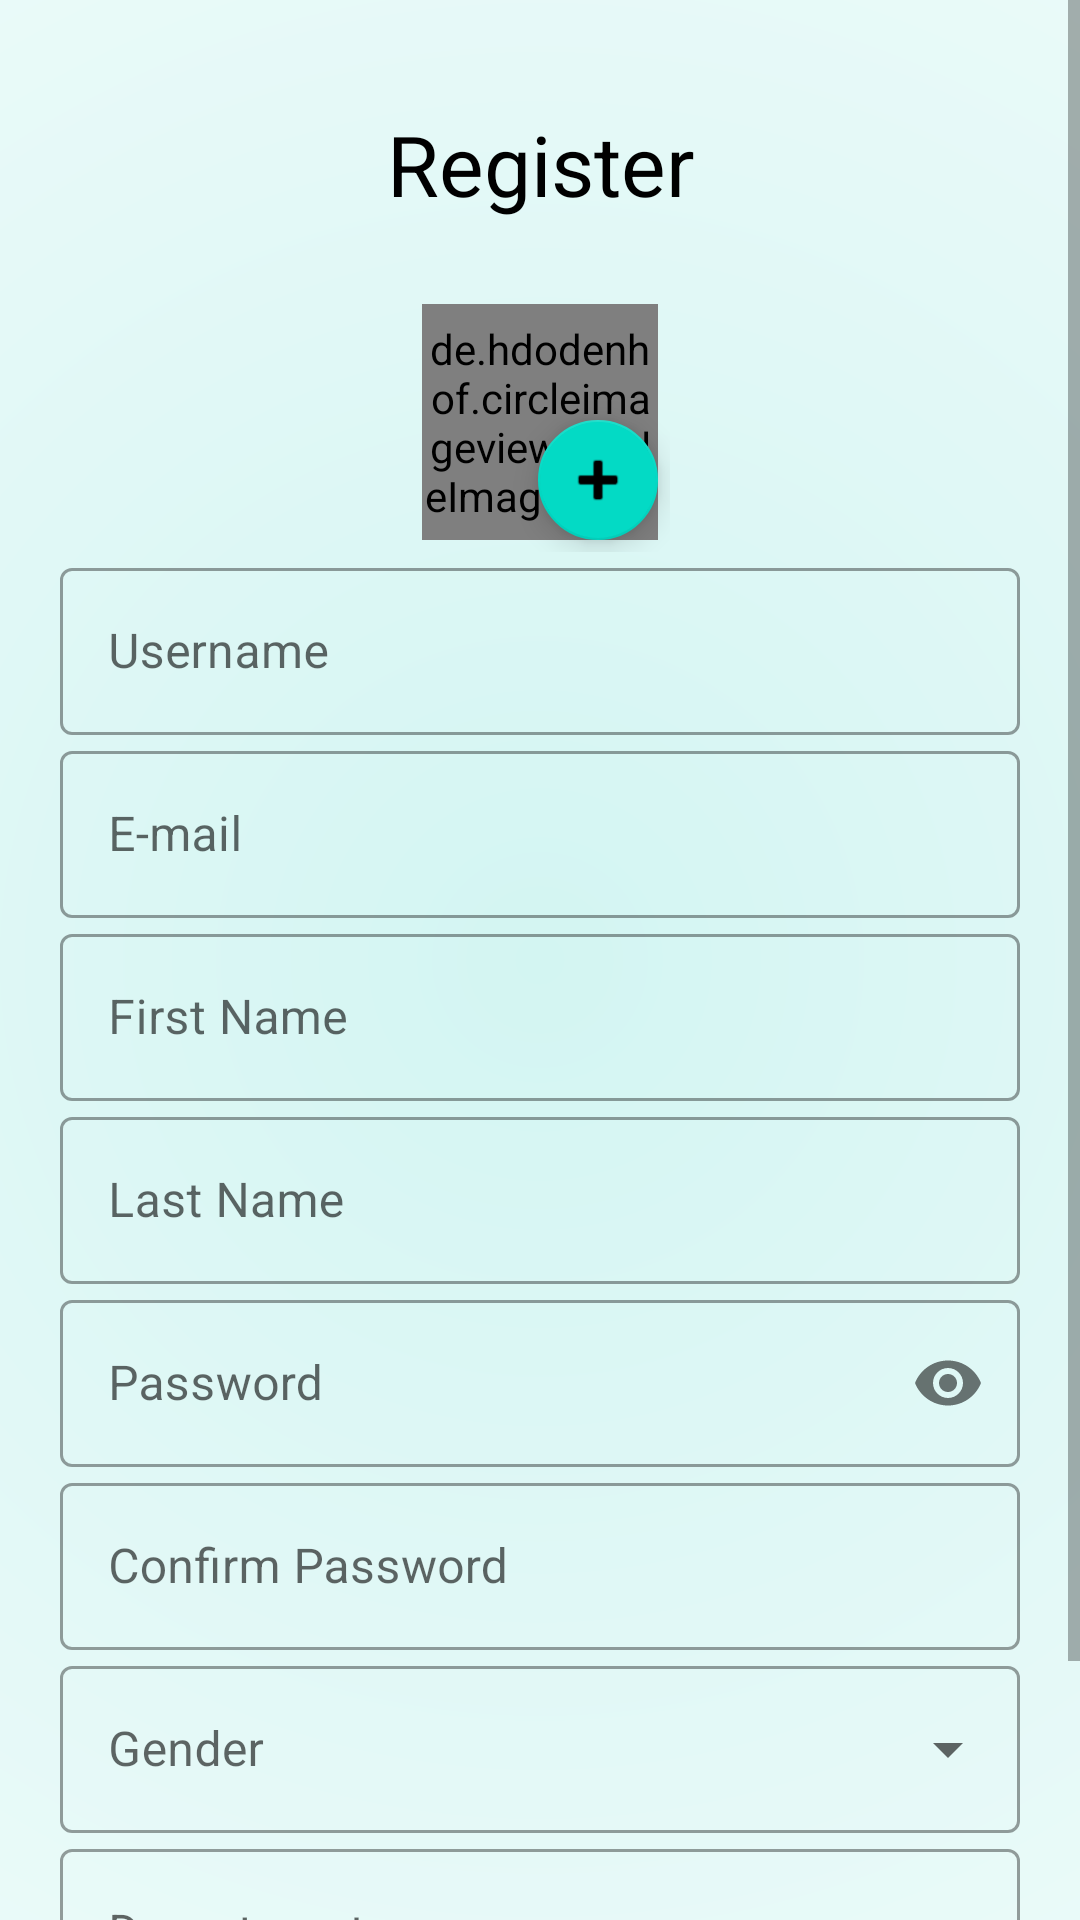

Where to tap for icons on this 1080px x 1920px app screen, as [x,y]:
add: [598,480]
